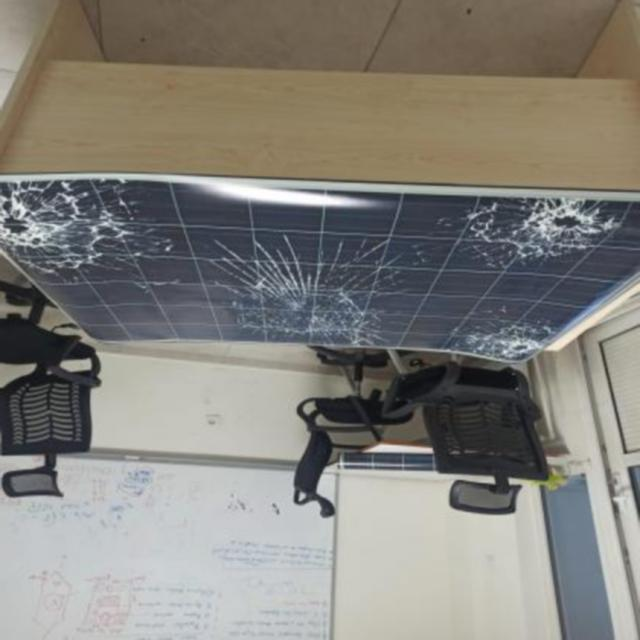cracked: (3, 172, 637, 346)
